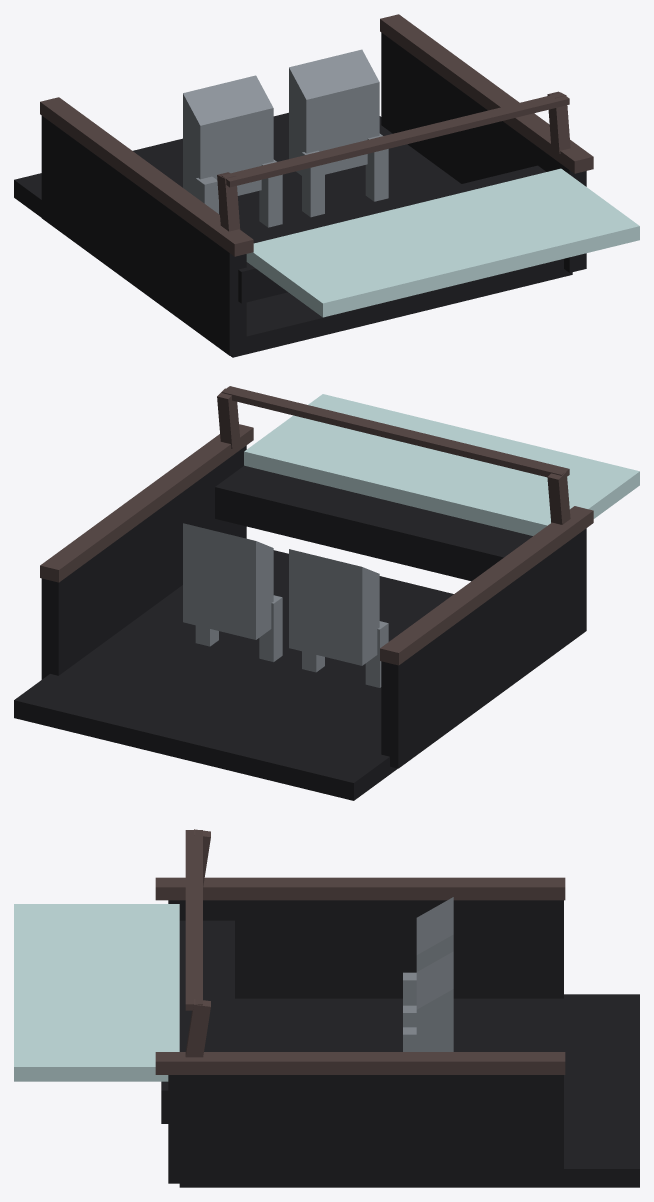
File: qingyu.glb
3 renders of one model, top to bottom at view 1: azimuth 30°, elevation 25°; view 2: azimuth 150°, elevation 25°; view 3: azimuth 270°, elevation 25°, orthographic. The views are drawn at different scales.
Parts seen in each view (by area): view 1: hood, right_wall_lower, floor, left_wall_lower, seat_passenger_back, seat_driver_back, door_sill_R, door_sill_L, windshield_header, dashboard, seat_driver_bolster_out, seat_passenger_bolster_out (+4 smaller); view 2: floor, hood, right_wall_lower, dashboard, left_wall_lower, seat_driver_back, seat_passenger_back, door_sill_R, door_sill_L, windshield_header, seat_passenger_bolster_in, A_pillar_R (+2 smaller); view 3: left_wall_lower, floor, right_wall_lower, hood, door_sill_R, door_sill_L, dashboard, seat_passenger_back, windshield_header, seat_driver_back, A_pillar_L.
Part boxes in pixels (x1,y1,x2,y2): hood: (246, 168, 639, 317); right_wall_lower: (41, 116, 246, 355); floor: (14, 112, 572, 357); left_wall_lower: (381, 32, 586, 272); seat_passenger_back: (289, 49, 379, 175); seat_driver_back: (183, 75, 273, 196); door_sill_R: (40, 97, 253, 256); door_sill_L: (380, 14, 593, 173); windshield_header: (221, 92, 569, 187); dashboard: (238, 165, 545, 303); seat_driver_bolster_out: (259, 159, 282, 227); seat_passenger_bolster_out: (365, 133, 388, 201); floor: (14, 550, 453, 800); hood: (244, 394, 639, 535); right_wall_lower: (381, 528, 586, 768); dashboard: (215, 465, 532, 581); left_wall_lower: (41, 445, 246, 679); seat_driver_back: (289, 549, 379, 665); seat_passenger_back: (183, 523, 273, 639); door_sill_R: (380, 506, 593, 665); door_sill_L: (40, 424, 253, 582); windshield_header: (221, 386, 569, 477); seat_passenger_bolster_in: (259, 595, 282, 661); A_pillar_R: (547, 469, 570, 524); left_wall_lower: (168, 1075, 563, 1183); floor: (179, 994, 639, 1187); right_wall_lower: (168, 900, 563, 998); hood: (14, 904, 179, 1081); door_sill_R: (155, 877, 565, 900); door_sill_L: (155, 1052, 565, 1074); dashboard: (161, 920, 234, 1123); seat_passenger_back: (416, 951, 453, 1051); windshield_header: (185, 830, 202, 1010); seat_driver_back: (416, 897, 453, 971); A_pillar_L: (185, 999, 210, 1057).
Size of the model in its own units: 1.89 by 1.05 by 2.72.
